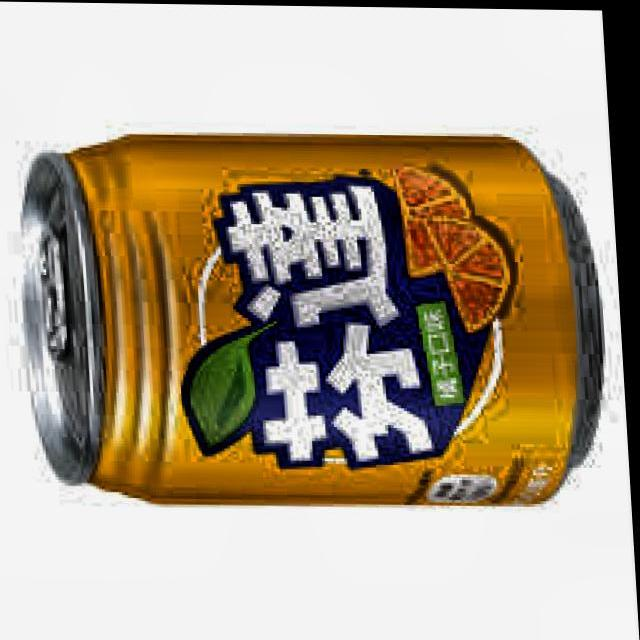Aluminum Can: (6, 116, 633, 527)
